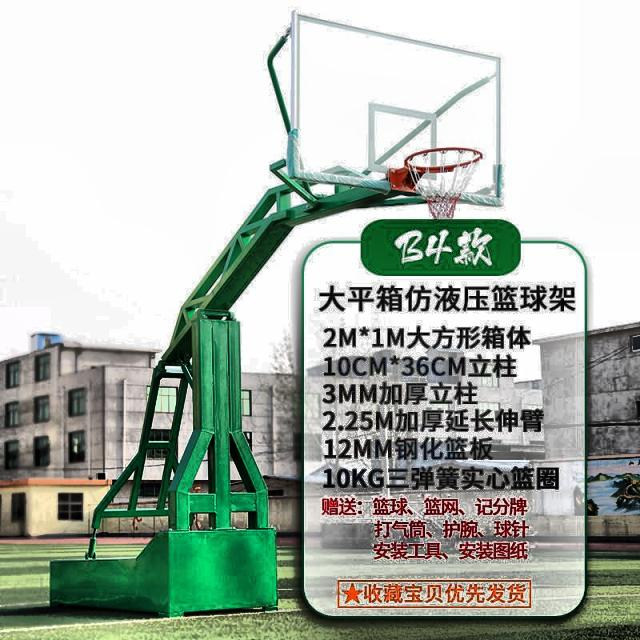rim: (404, 147, 482, 217)
